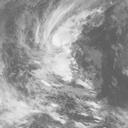cyclone: (33, 37, 79, 81)
